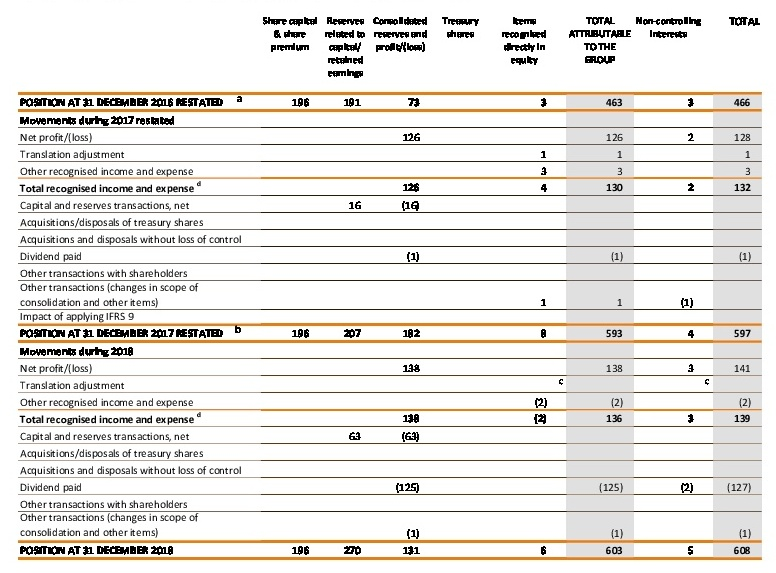table: (0, 0, 776, 573)
